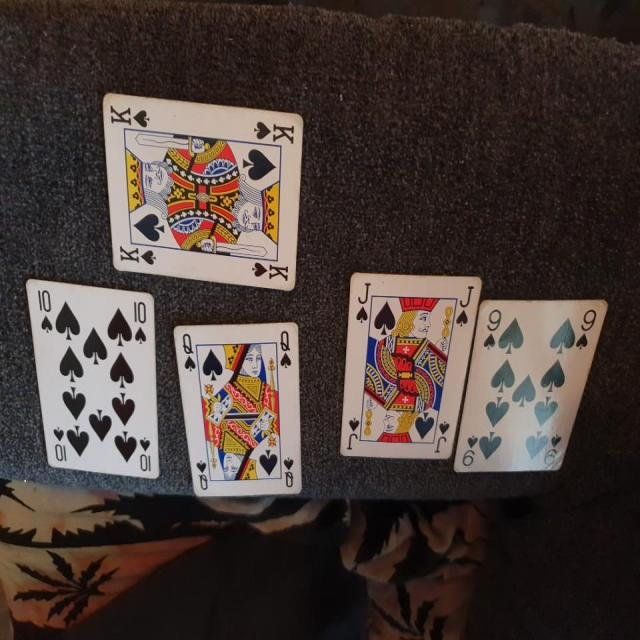10 Spades: (20, 274, 164, 485)
9 Spades: (454, 299, 603, 482)
J Spades: (334, 265, 475, 460)
K Spades: (99, 78, 305, 292)
Q Spades: (168, 313, 309, 504)
